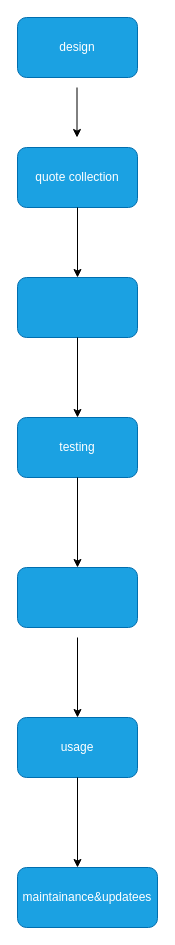
Some shapes in this 175 by 945 pixel diagram are drawn without their labels. The shapes that lost their labels are listed below. From the top down, each one's centre as x and y in pixels, then its label:
(77,307): development
(77,597): deployment
